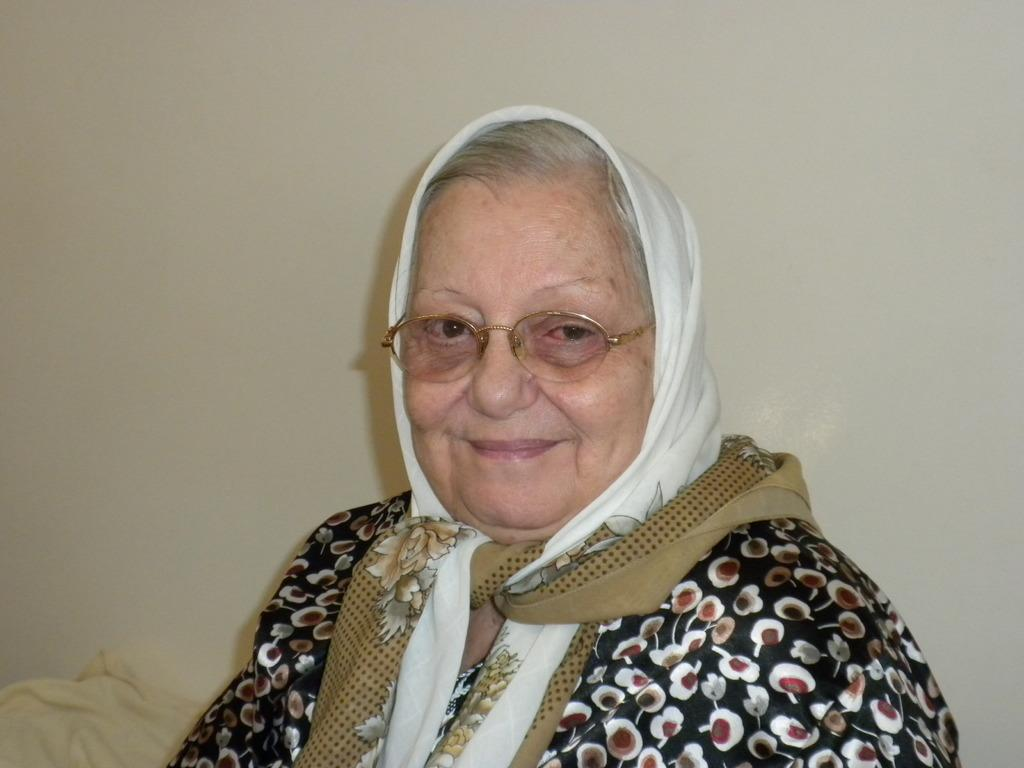Sem Máscara: (398, 186, 645, 530)
